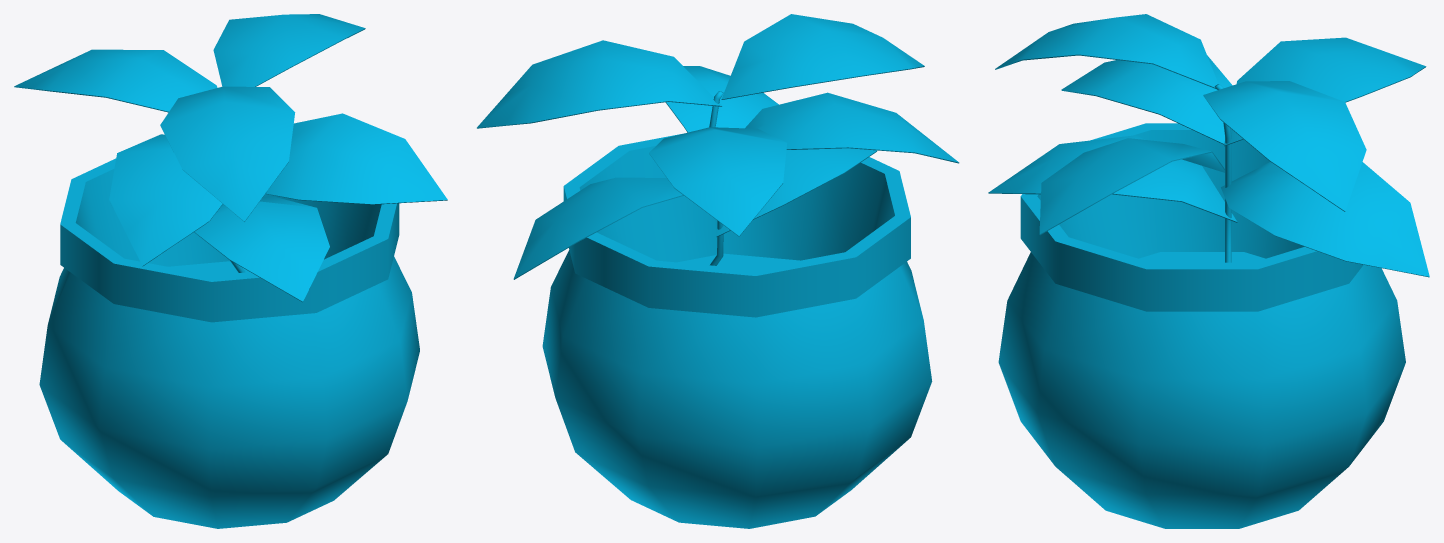
File: Planta3.fbx
The picture shows the model from 3 angles, left to right: view 1: azimuth 30°, elevation 25°; view 2: azimuth 150°, elevation 25°; view 3: azimuth 270°, elevation 25°; orthographic projection. The views are drawn at different scales.
Parts seen in each view (by area): view 1: Maceta.002, HojasPlanta3.006, HojasPlanta3.004, HojasPlanta3.001, HojasPlanta3.005, HojasPlanta3.002, HojasPlanta3.003; view 2: Maceta.002, HojasPlanta3.003, HojasPlanta3.006, HojasPlanta3.002, HojasPlanta3.001, HojasPlanta3, HojasPlanta3.005, HojasPlanta3.004; view 3: Maceta.002, HojasPlanta3, HojasPlanta3.003, HojasPlanta3.006, HojasPlanta3.002, HojasPlanta3.004, HojasPlanta3.001, HojasPlanta3.005, TalloPlanta3.
Part boxes in pixels (bbox=[...]): Maceta.002: bbox=[39, 158, 419, 528]; HojasPlanta3.006: bbox=[160, 86, 295, 221]; HojasPlanta3.004: bbox=[265, 113, 447, 204]; HojasPlanta3.001: bbox=[109, 134, 222, 266]; HojasPlanta3.005: bbox=[194, 196, 329, 302]; HojasPlanta3.002: bbox=[14, 49, 217, 112]; HojasPlanta3.003: bbox=[213, 14, 365, 86]; Maceta.002: bbox=[542, 133, 932, 528]; HojasPlanta3.003: bbox=[477, 40, 721, 128]; HojasPlanta3.006: bbox=[721, 14, 924, 99]; HojasPlanta3.002: bbox=[649, 127, 787, 236]; HojasPlanta3.001: bbox=[745, 92, 959, 163]; HojasPlanta3: bbox=[513, 177, 683, 279]; HojasPlanta3.005: bbox=[715, 148, 876, 236]; HojasPlanta3.004: bbox=[665, 66, 778, 132]; Maceta.002: bbox=[998, 123, 1405, 528]; HojasPlanta3: bbox=[1221, 162, 1429, 277]; HojasPlanta3.003: bbox=[1203, 81, 1366, 211]; HojasPlanta3.006: bbox=[995, 14, 1218, 89]; HojasPlanta3.002: bbox=[1224, 37, 1426, 146]; HojasPlanta3.004: bbox=[1039, 138, 1224, 235]; HojasPlanta3.001: bbox=[1061, 55, 1232, 144]; HojasPlanta3.005: bbox=[988, 135, 1237, 222]; TalloPlanta3: bbox=[1214, 84, 1231, 262].
Size of the model in its own units: 38.34 by 44.41 by 40.39.
